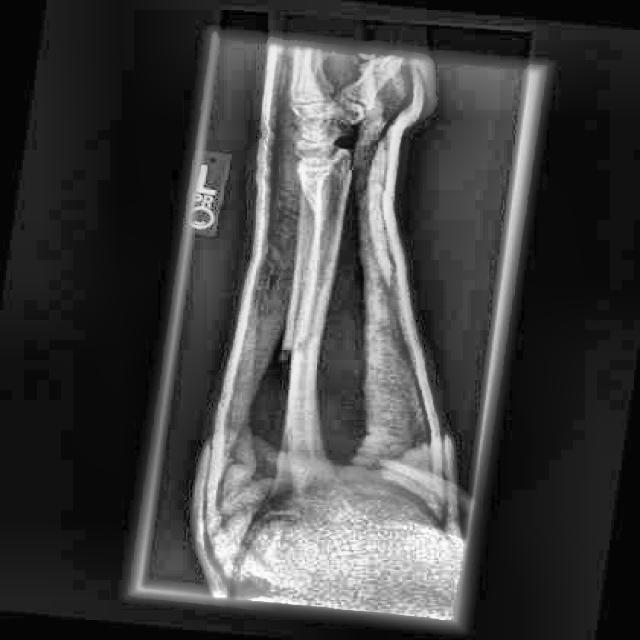forearm fracture: (262, 303, 343, 393)
